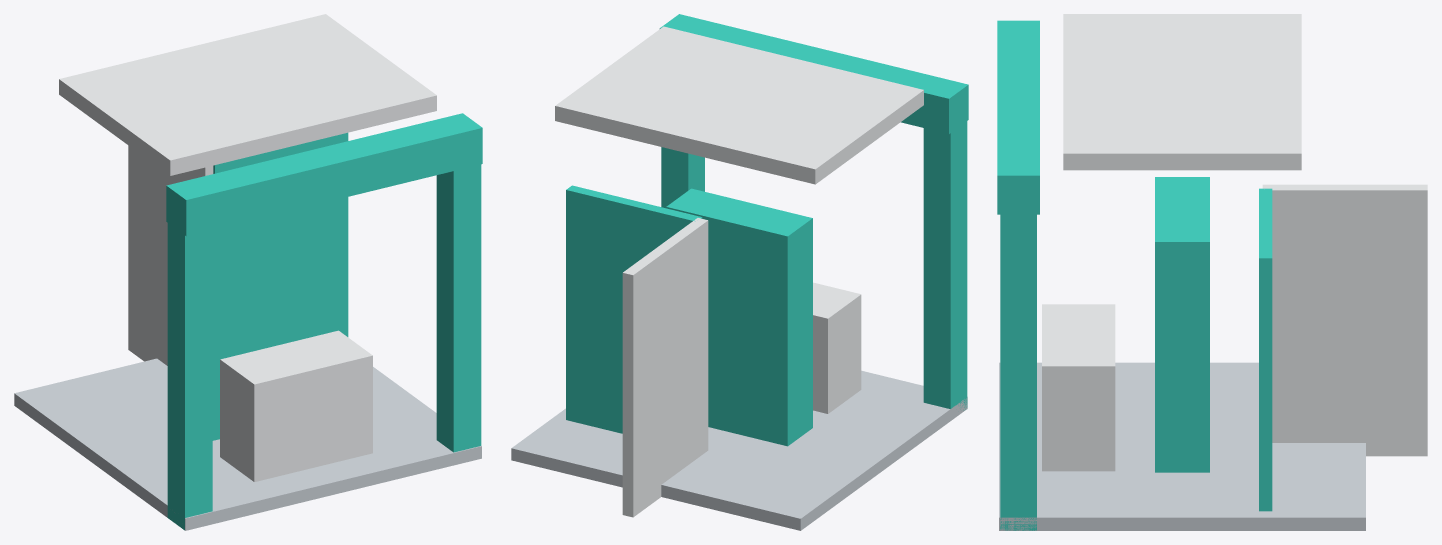
3 renders of one model, left to right at view 1: azimuth 30°, elevation 25°; view 2: azimuth 150°, elevation 25°; view 3: azimuth 270°, elevation 25°, orthographic. The views are drawn at different scales.
Parts seen in each view (by area): view 1: Exhibition Booth Concept; view 2: Exhibition Booth Concept; view 3: Exhibition Booth Concept.
Part boxes in pixels (bbox=[...]): Exhibition Booth Concept: bbox=[14, 14, 482, 530]; Exhibition Booth Concept: bbox=[511, 14, 968, 530]; Exhibition Booth Concept: bbox=[997, 14, 1427, 530].
Bounding box in the file's own units: 3 × 3.34 × 3.52.
